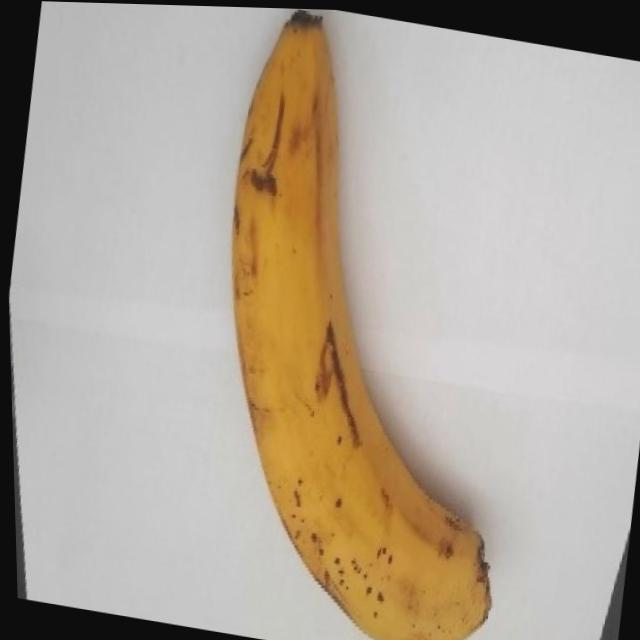Banana: (169, 4, 568, 640)
